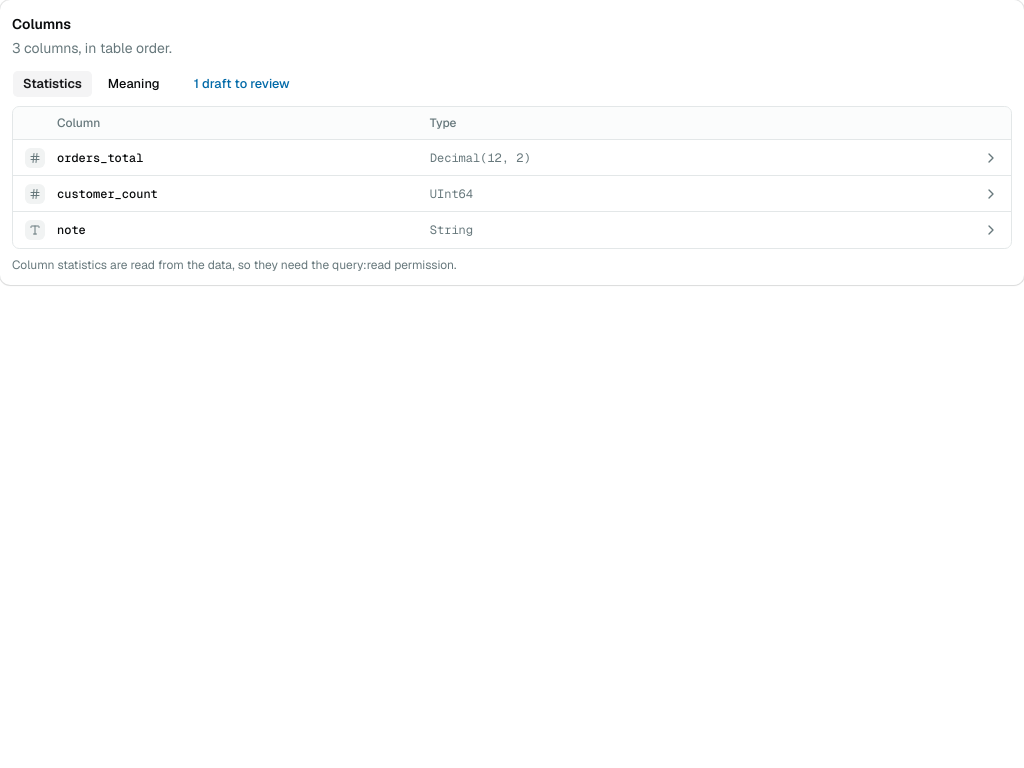
Test case: the role in the row › shows the full label of a non-additive role in the edit dialog
This screenshot has width=1024, height=768.
Click the button "Meaning": (134, 84) [97,70,171,98]
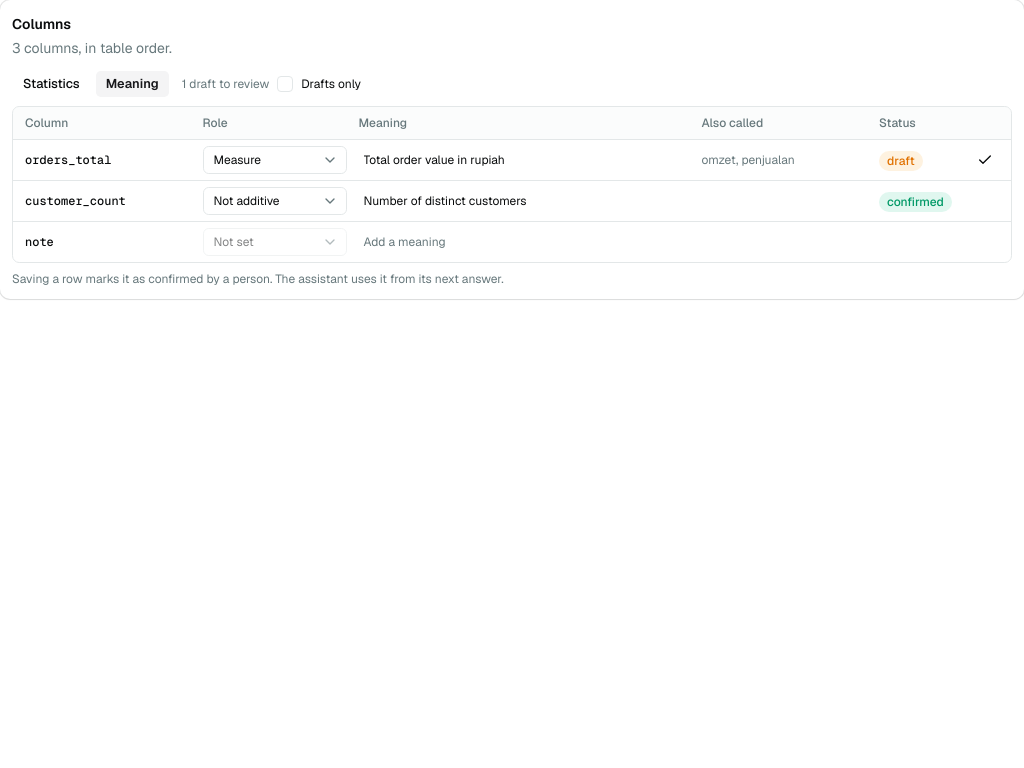
Click the button with aria-label "Edit the meaning of customer_count": (524, 201) [358,190,690,212]
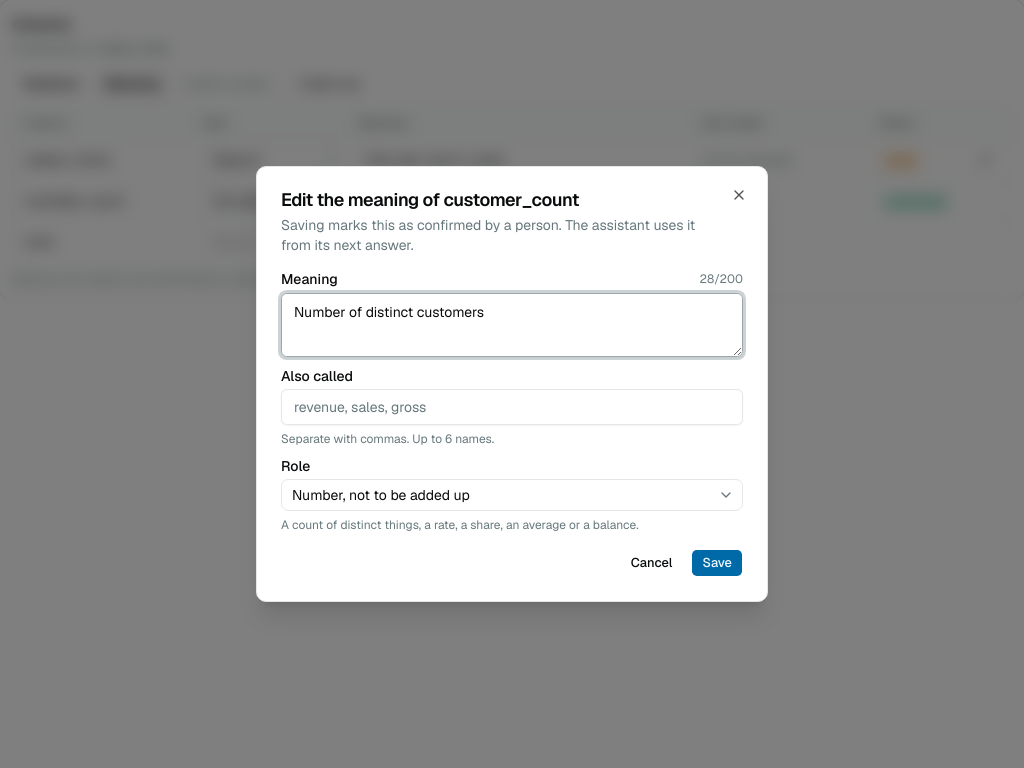
expect the dropdown named "Role" shows "Number, not to be added up": met, box [281,479,743,511]
